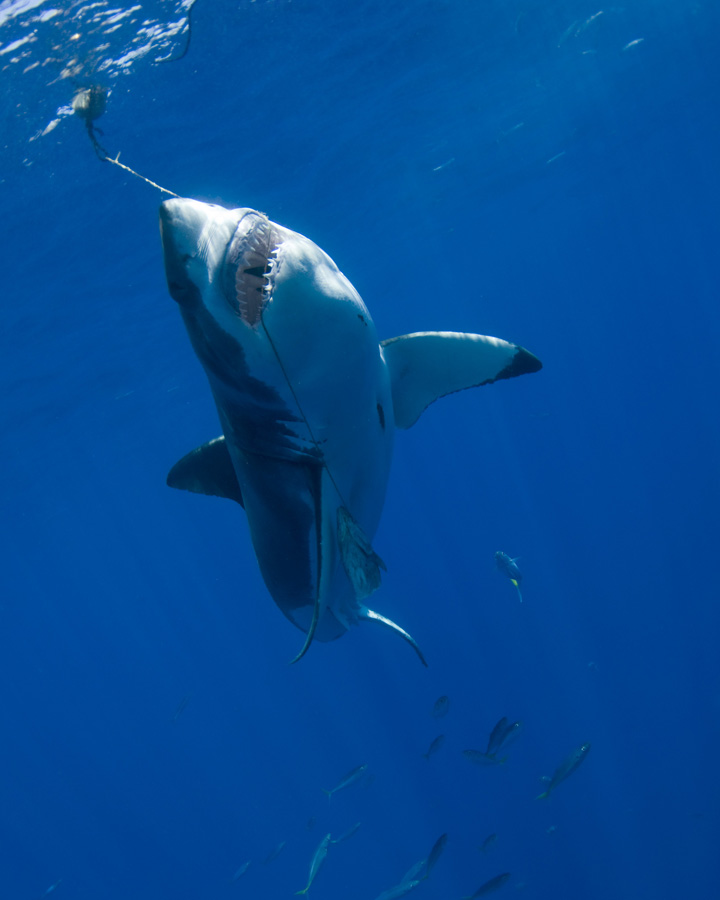Carcharodon_carcharias: (124, 172, 580, 692)
